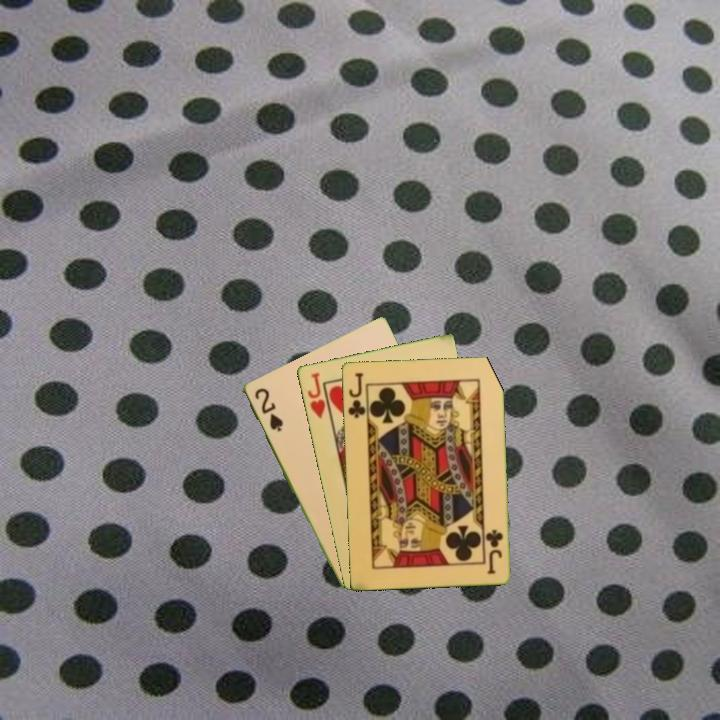2s: (251, 384, 286, 434)
Jc: (344, 369, 368, 420), (483, 526, 506, 576)
Jh: (303, 369, 333, 423)
